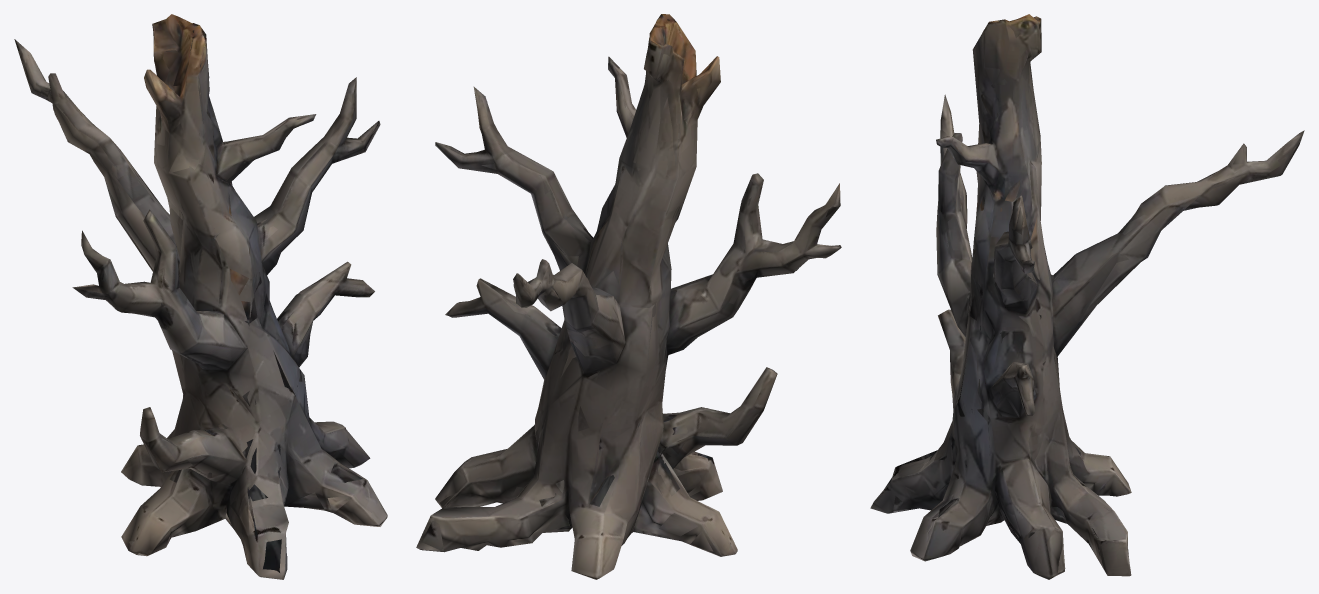
File: tree_meadow_dead.glb
3 renders of one model, left to right at view 1: azimuth 30°, elevation 25°; view 2: azimuth 150°, elevation 25°; view 3: azimuth 270°, elevation 25°, orthographic. The views are drawn at different scales.
Parts seen in each view (by area): view 1: BakeLow; view 2: BakeLow; view 3: BakeLow.
Part boxes in pixels (box(x1,y1,x2,y2)): BakeLow: box(14, 14, 387, 579); BakeLow: box(416, 14, 841, 579); BakeLow: box(870, 14, 1304, 579).
Size of the model in its own units: 0.6189 by 0.8623 by 0.7042.
Materials: 1 (1 with a texture image).
